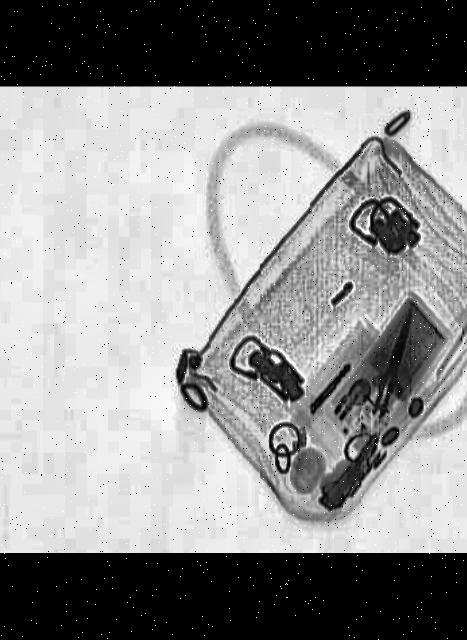Knife: (366, 305, 418, 416)
